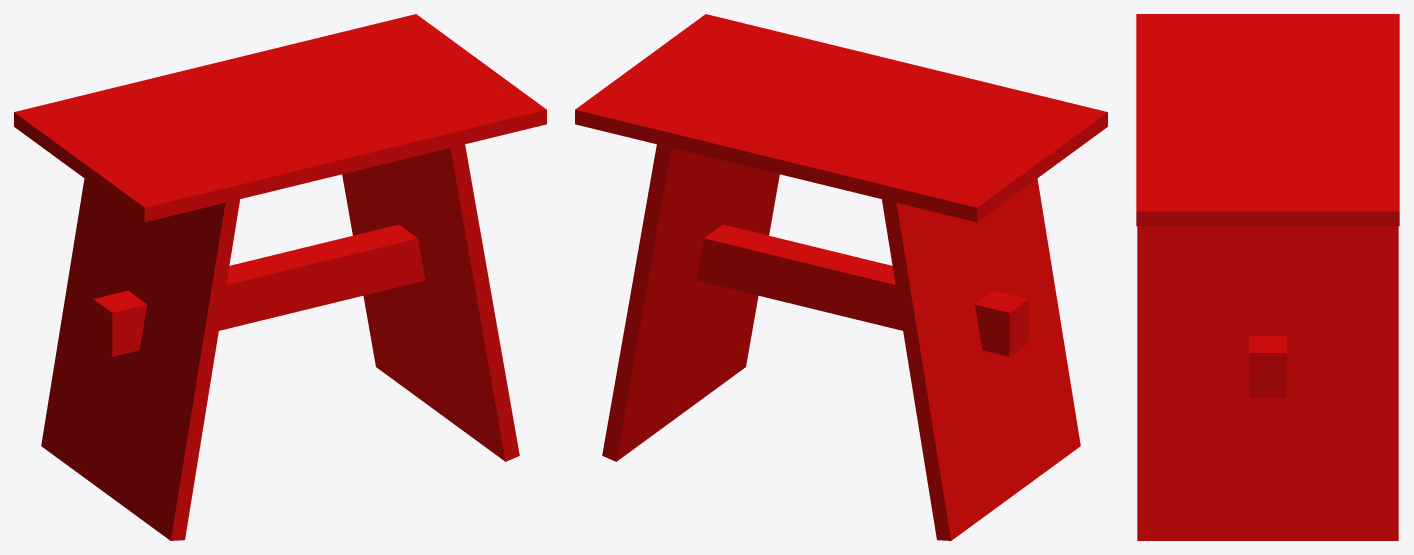
The model's file is Chair01Collider.fbx.
The picture shows the model from 3 angles, left to right: view 1: azimuth 30°, elevation 25°; view 2: azimuth 150°, elevation 25°; view 3: azimuth 270°, elevation 25°; orthographic projection.
Parts seen in each view (by area): view 1: Chair01Collision; view 2: Chair01Collision; view 3: Chair01Collision.
Part boxes in pixels (x1,y1,x2,y2): Chair01Collision: (14,14,546,540); Chair01Collision: (575,14,1107,540); Chair01Collision: (1136,14,1399,540).
Size of the model in its own units: 64.96 by 52.9 by 36.57.
